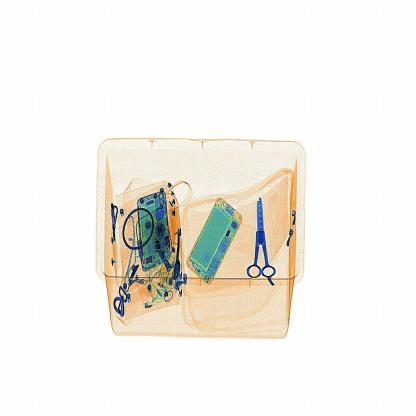gun: (244, 184, 291, 298)
